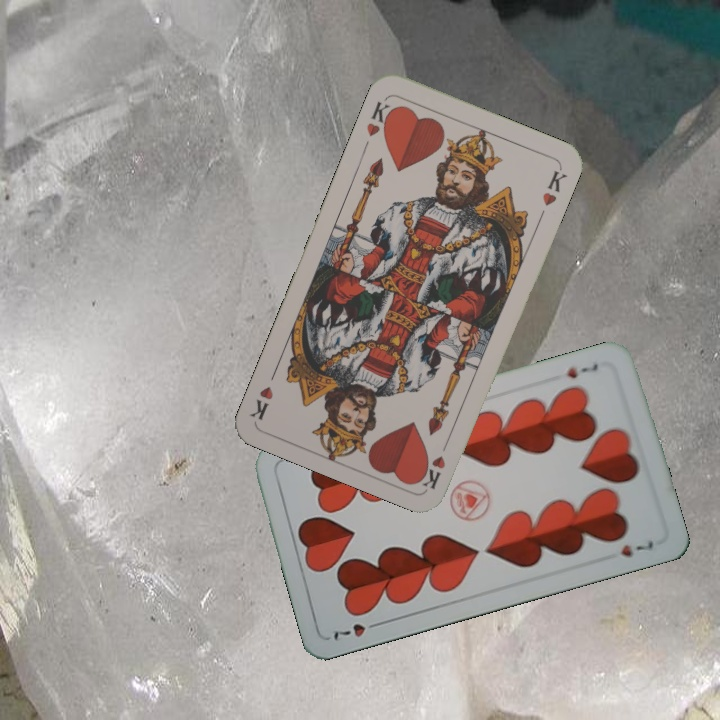H7: (329, 618, 385, 643), (563, 359, 601, 382)
HK: (417, 434, 453, 492), (362, 97, 398, 139)
